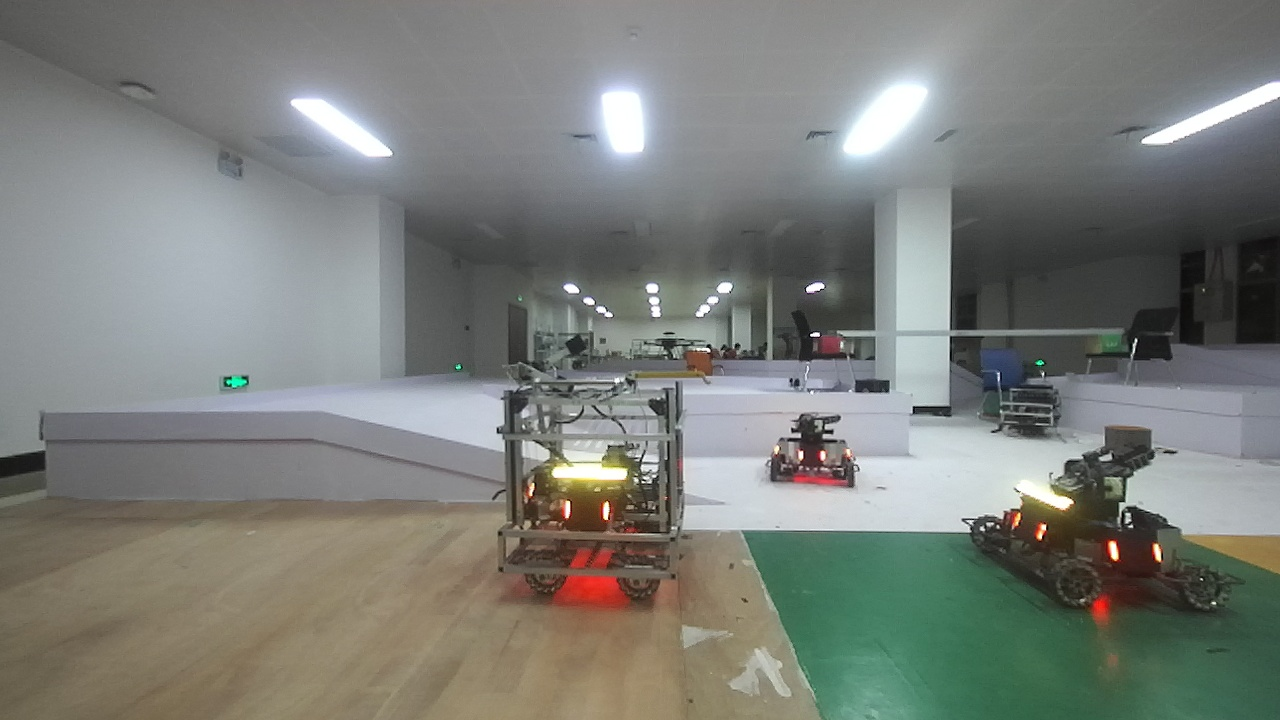car: (961, 431, 1232, 615), (506, 369, 683, 595), (759, 411, 875, 491)
